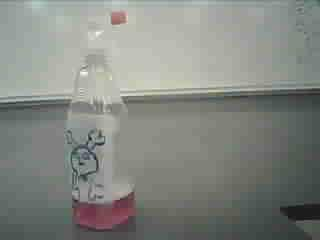hazard: (65, 5, 145, 240)
